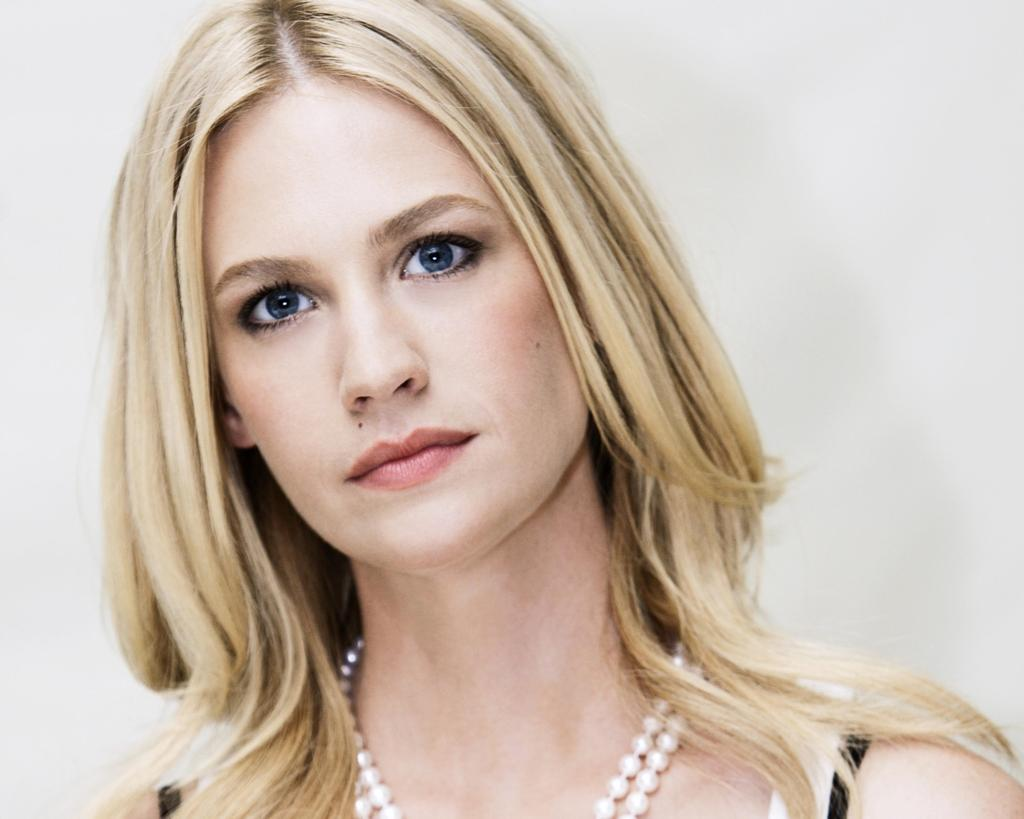face: (204, 90, 592, 556)
